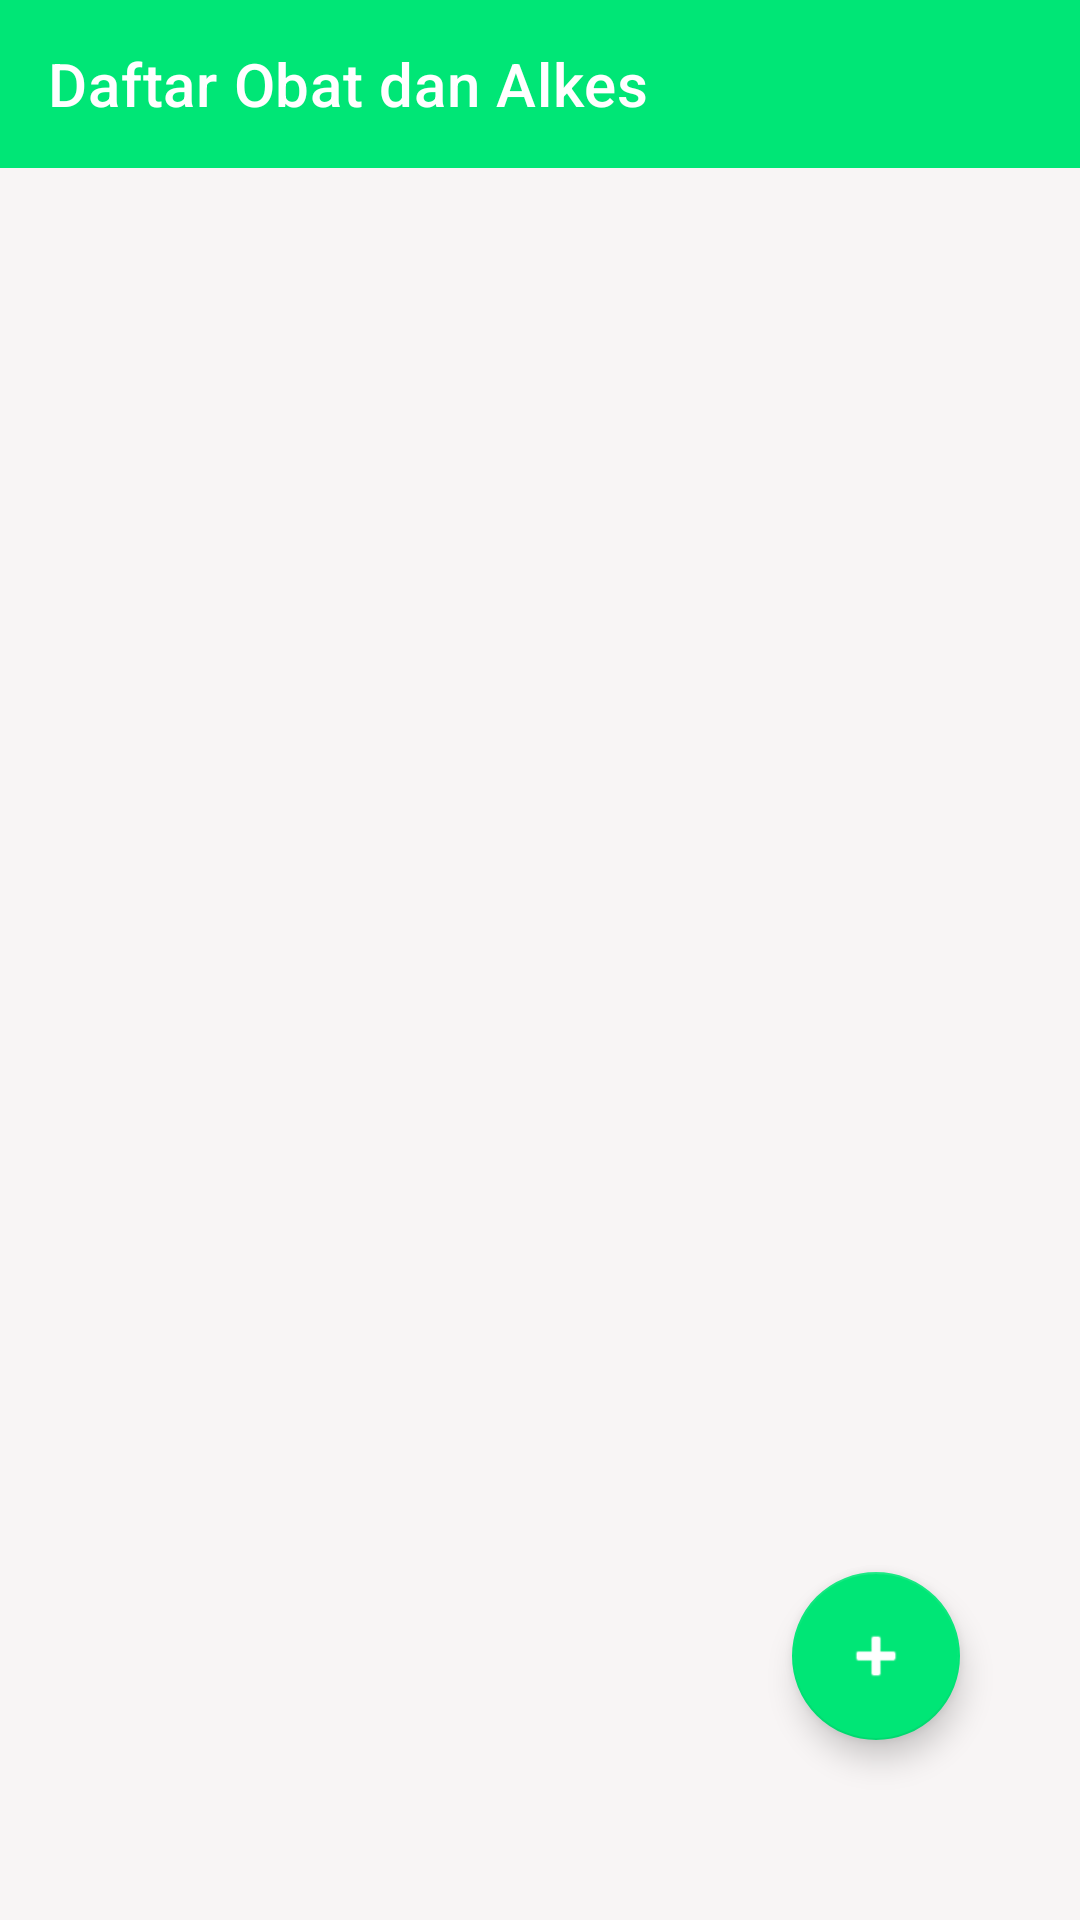

Screen size 1080px×1920px. Icon name, then its center in pixels as point (x, y):
add: point (876, 1656)
